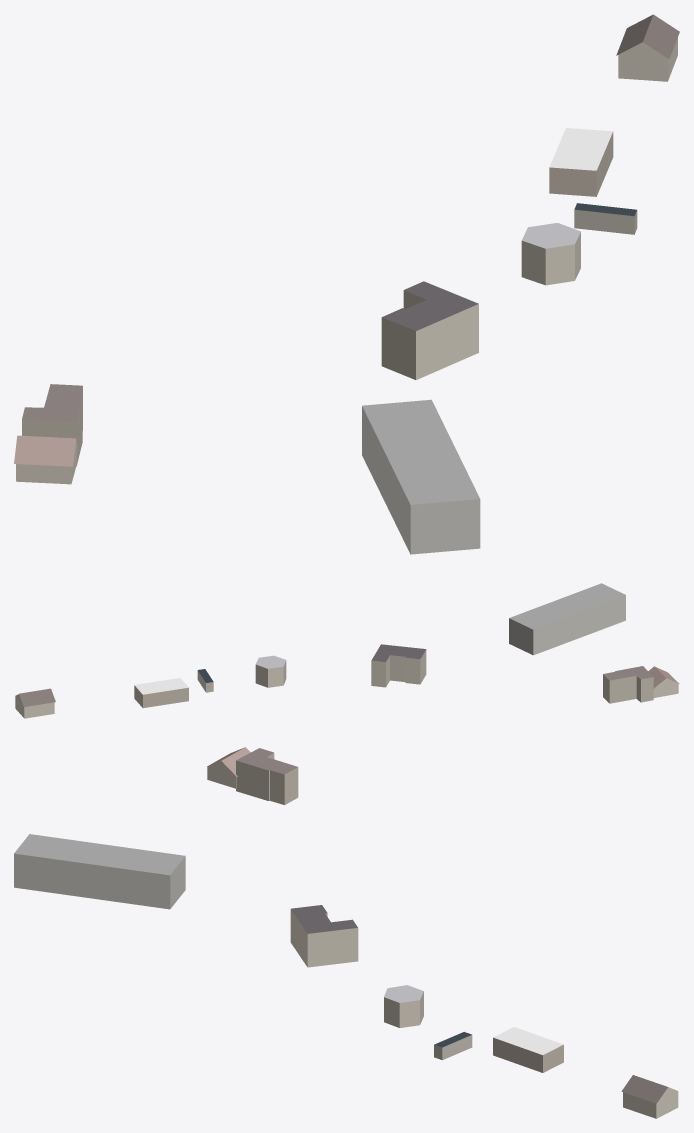
3 views of the same model, one above another, from view 1: azimuth 30°, elevation 25°; view 2: azimuth 150°, elevation 25°; view 3: azimuth 270°, elevation 25° (orthographic). The views are drawn at different scales.
Visible parts, largest first — view 1: tuile; view 2: tuile; view 3: tuile.
Boxes of the visible parts, <box> form: tuile: <box>14,14,679,554</box>; tuile: <box>15,583,679,718</box>; tuile: <box>14,747,678,1118</box>.
Size of the model in its own units: 214 by 18.84 by 184.
